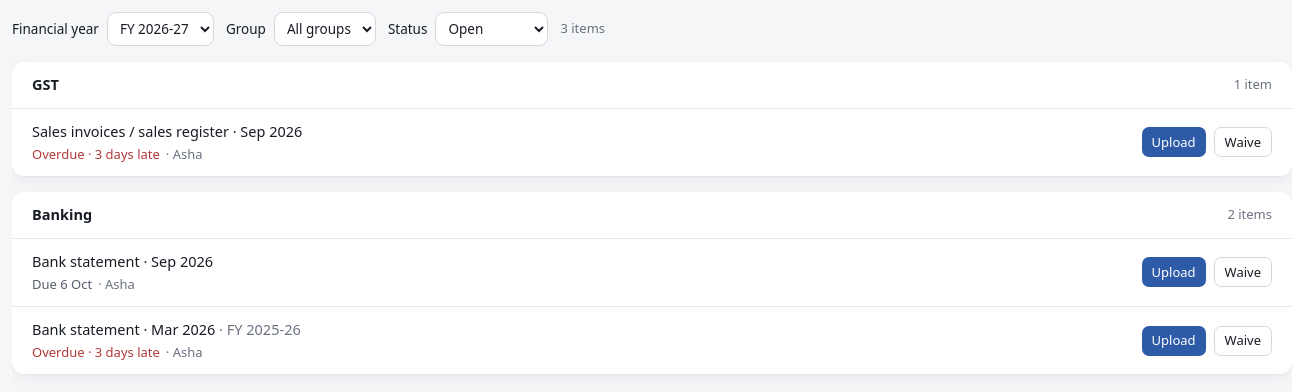
Test: ExpectedView (AC-13) › status and FY filters, and the empty state
The image size is (1292, 392).
Select "Not needed" in the dropdown labelled "Status" at (492, 29), box 435,12 -> 548,46
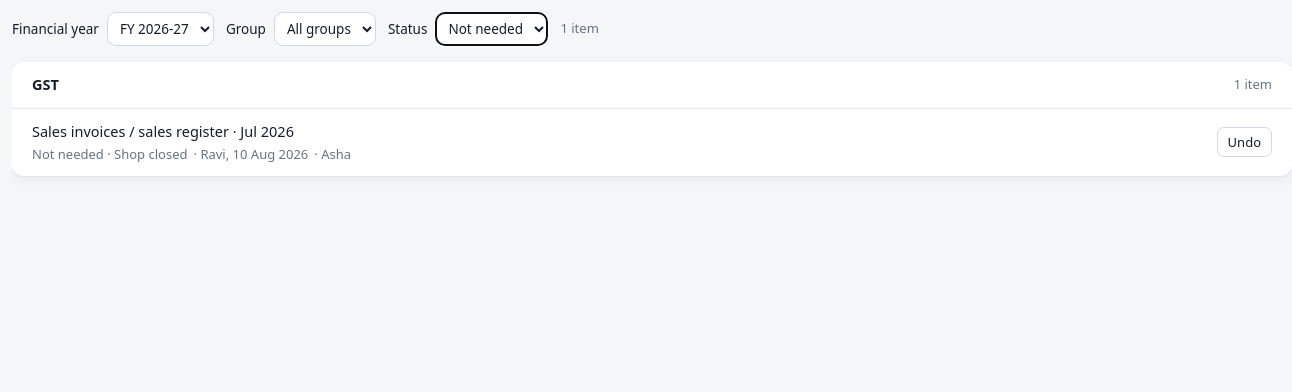
Now the list item shows "Not needed · Shop closed", box 32,144 -> 188,162
Now the list item shows "Ravi, 10 Aug 2026", box 12,109 -> 1291,176
Select "Open" in the dropdown labelled "Status" at (492, 29), box 435,12 -> 548,46
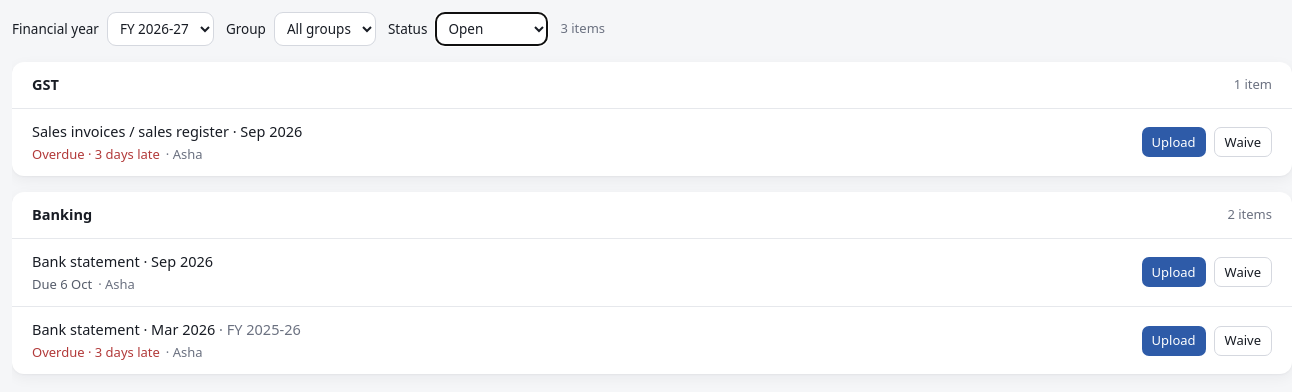
Select "GST" in the dropdown labelled "Group" at (325, 29), box 274,12 -> 376,46
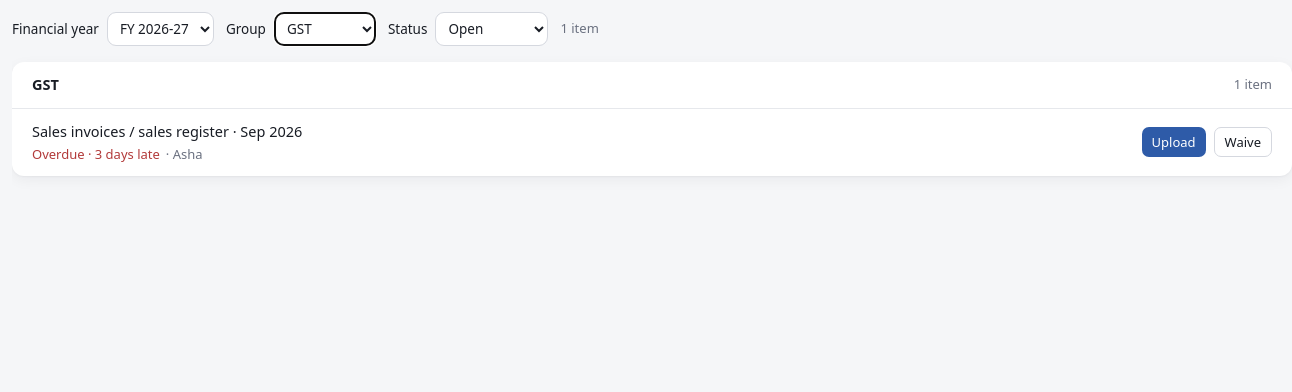
Select "FY 2025-26" in the dropdown labelled "Financial year" at (160, 29), box 107,12 -> 214,46
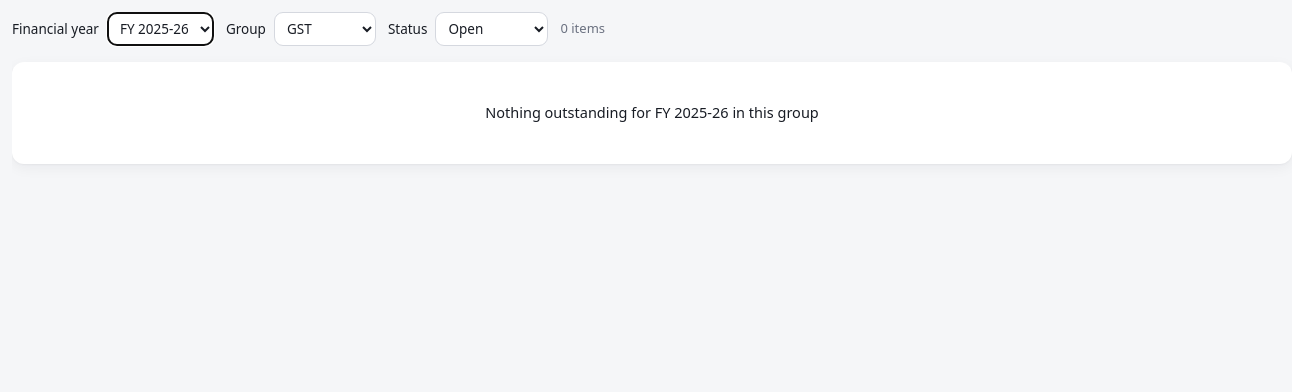
Now the text "Nothing outstanding for FY 2025-26 in this group" is shown, box 485,102 -> 819,122
